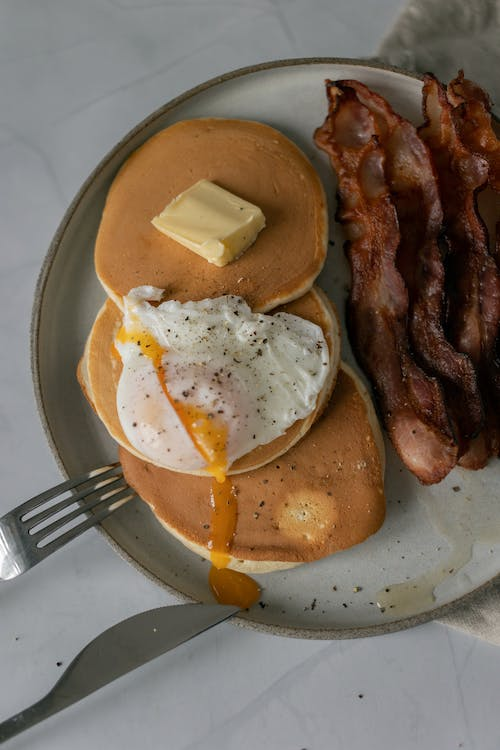knife: (0, 599, 245, 749)
